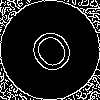O: (25, 25, 84, 85)
